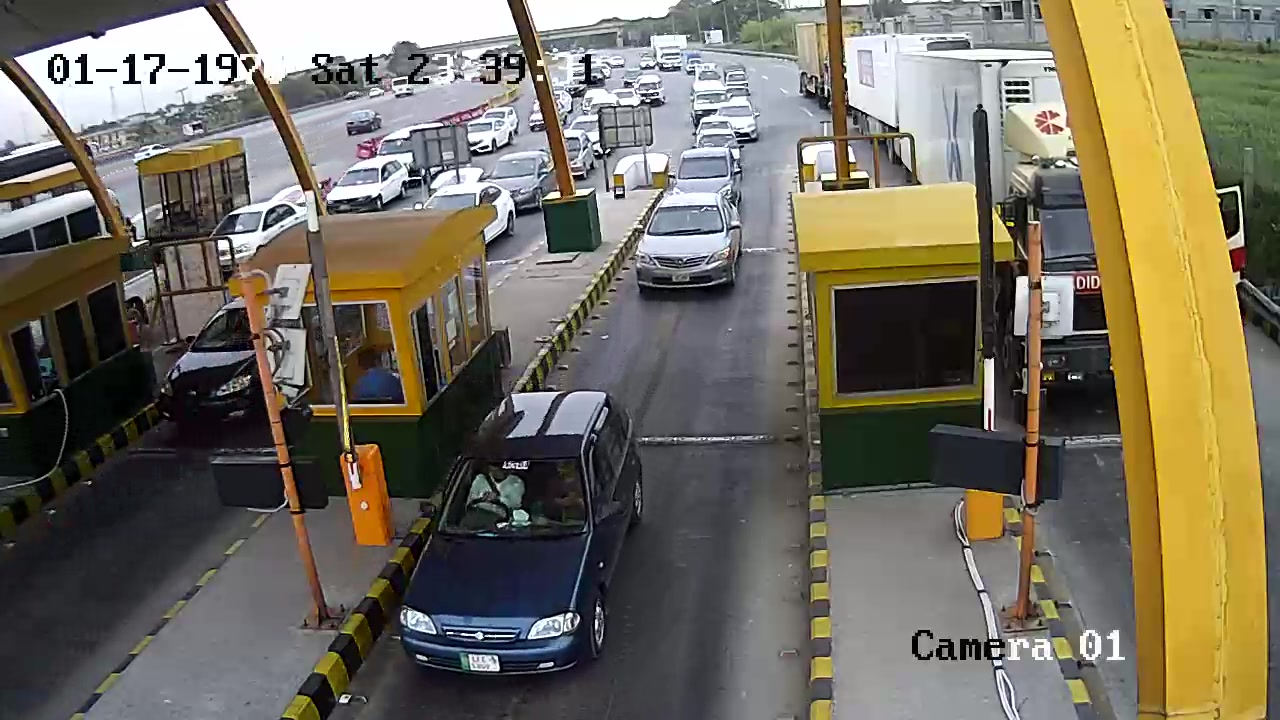F1: (393, 382, 654, 676)
